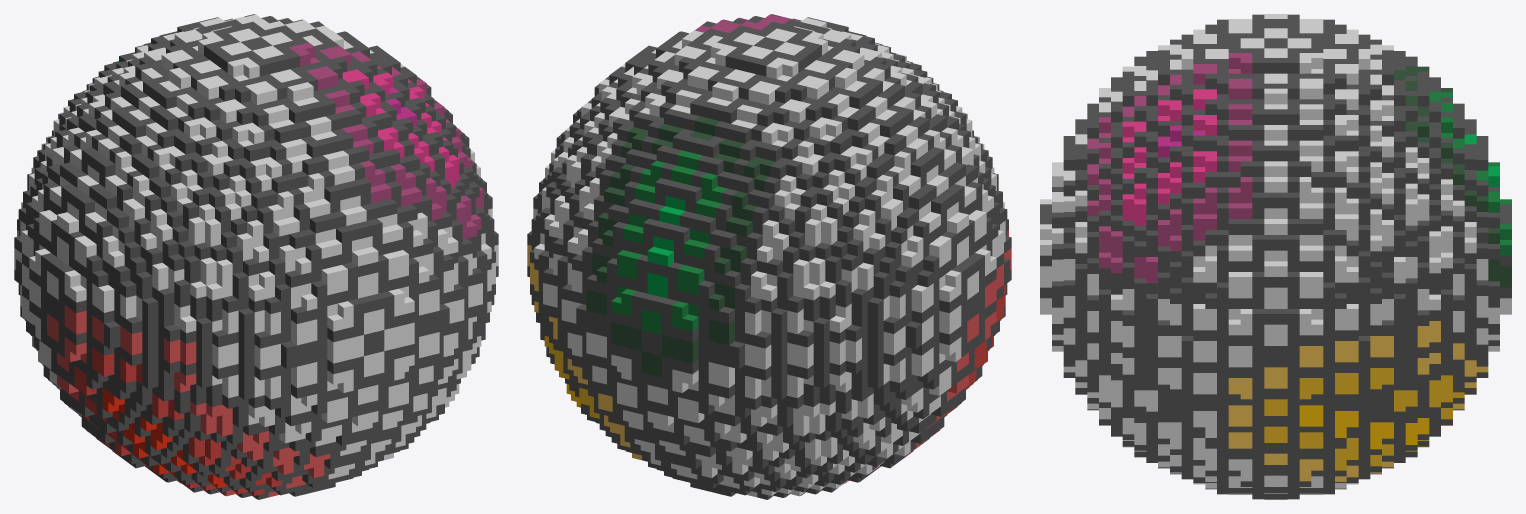
Rendered from каскад(цветастый).obj.
3 renders of one model, left to right at view 1: azimuth 30°, elevation 25°; view 2: azimuth 150°, elevation 25°; view 3: azimuth 270°, elevation 25°, orthographic.
Bounding box in the file's own units: 4 × 4 × 4.
1 material, 1 textured.
